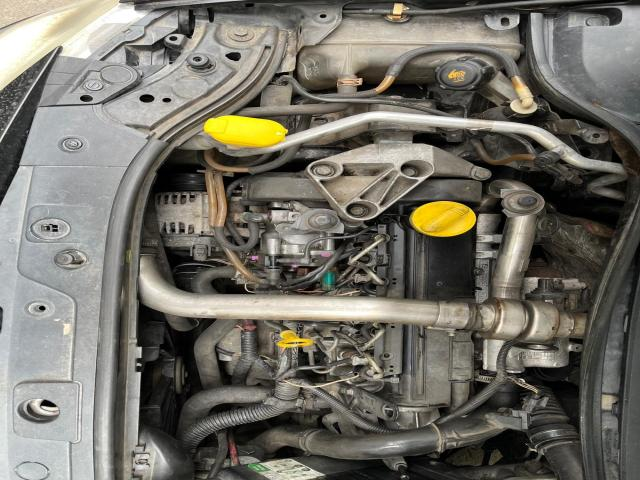alternator: (155, 191, 210, 234)
antifreeze_tank: (297, 14, 523, 90), (395, 52, 502, 91)
high_pressure_pump: (247, 210, 335, 273)
